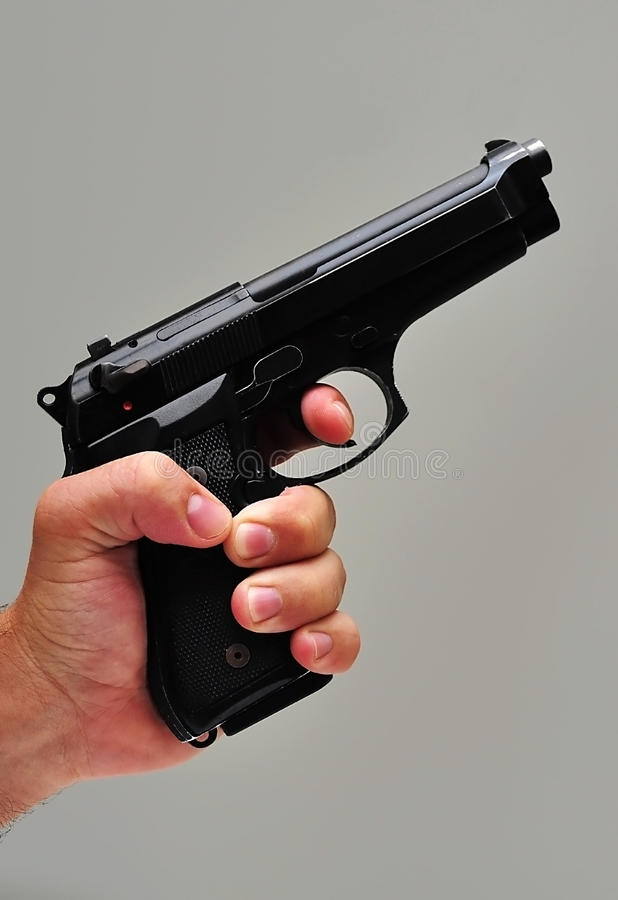pistol: (12, 55, 582, 832)
